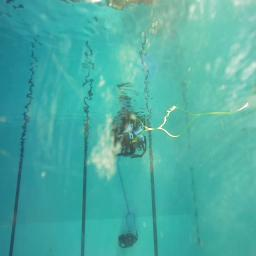Side: (118, 230, 138, 247)
back: (112, 132, 146, 159)
